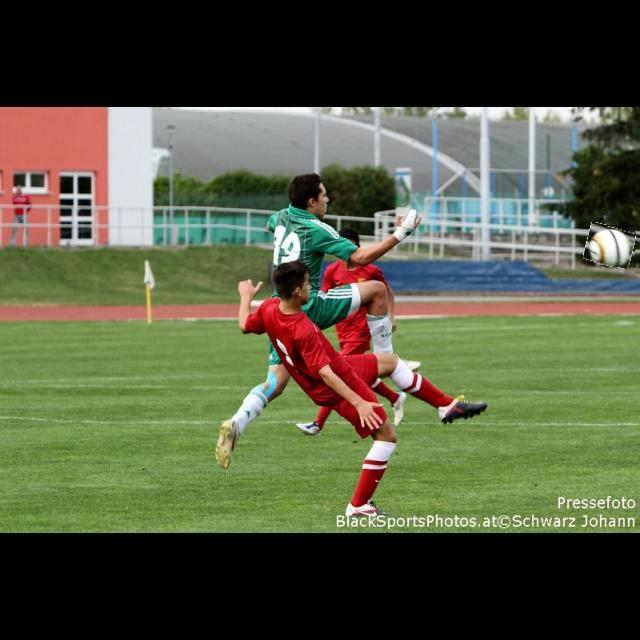Football: (585, 225, 635, 267)
